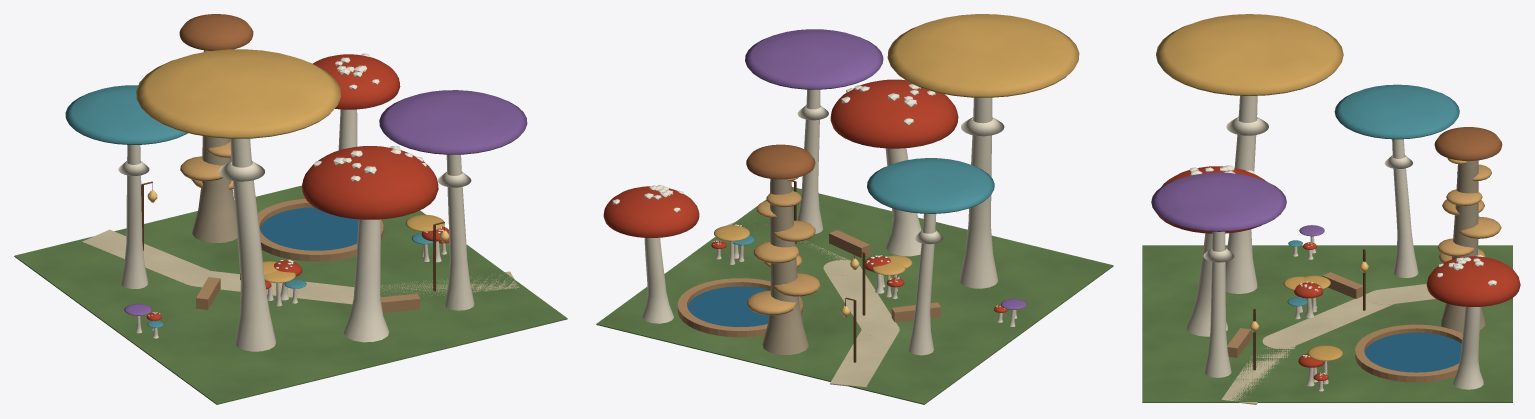
Rendered from hl_haj.glb.
3 views of the same model, side by side, from view 1: azimuth 30°, elevation 25°; view 2: azimuth 150°, elevation 25°; view 3: azimuth 270°, elevation 25° (orthographic). The views are drawn at different scales.
Visible parts, largest first — view 1: dum; view 2: dum; view 3: dum.
Part boxes in pixels (x1,y1,x2,y2): dum: (14,14,567,404); dum: (596,14,1113,404); dum: (1142,14,1520,404).
Bounding box in the file's own units: 14.78 × 10.09 × 14.46.
Materials: 1 (1 with a texture image).
